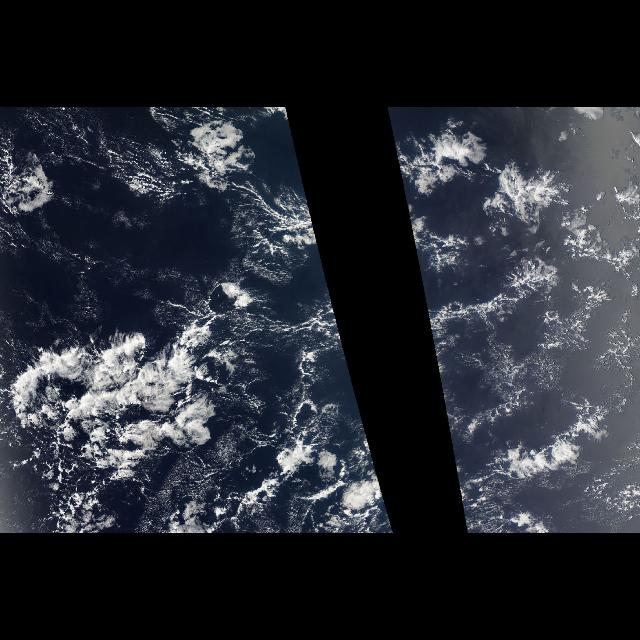Flower: (1, 124, 393, 530), (391, 124, 634, 530)
Gravel: (10, 354, 160, 528)
Sugar: (414, 247, 636, 417), (252, 247, 366, 417)
